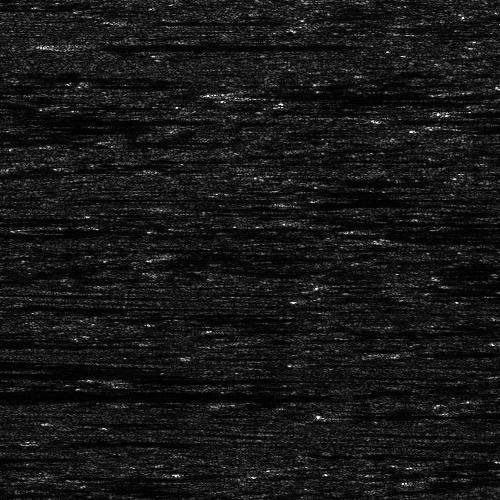object: (246, 91, 351, 106), (24, 41, 129, 50), (344, 116, 449, 123), (360, 234, 433, 243), (376, 347, 449, 354), (72, 377, 135, 384), (8, 437, 91, 442), (121, 15, 152, 26), (191, 88, 254, 93), (348, 227, 411, 232), (126, 203, 179, 208), (332, 412, 373, 417)
shadow: (0, 387, 252, 400), (0, 393, 249, 404), (299, 91, 452, 106), (77, 41, 311, 50), (137, 15, 280, 26), (0, 350, 106, 363), (0, 361, 179, 368), (223, 88, 470, 93), (397, 234, 500, 243), (0, 116, 165, 121), (50, 437, 203, 442), (353, 412, 500, 417), (397, 116, 500, 123), (413, 347, 500, 354), (380, 227, 500, 232), (0, 340, 115, 345), (153, 203, 259, 208), (104, 377, 155, 384), (0, 453, 69, 458), (0, 369, 60, 374), (0, 462, 46, 467)
